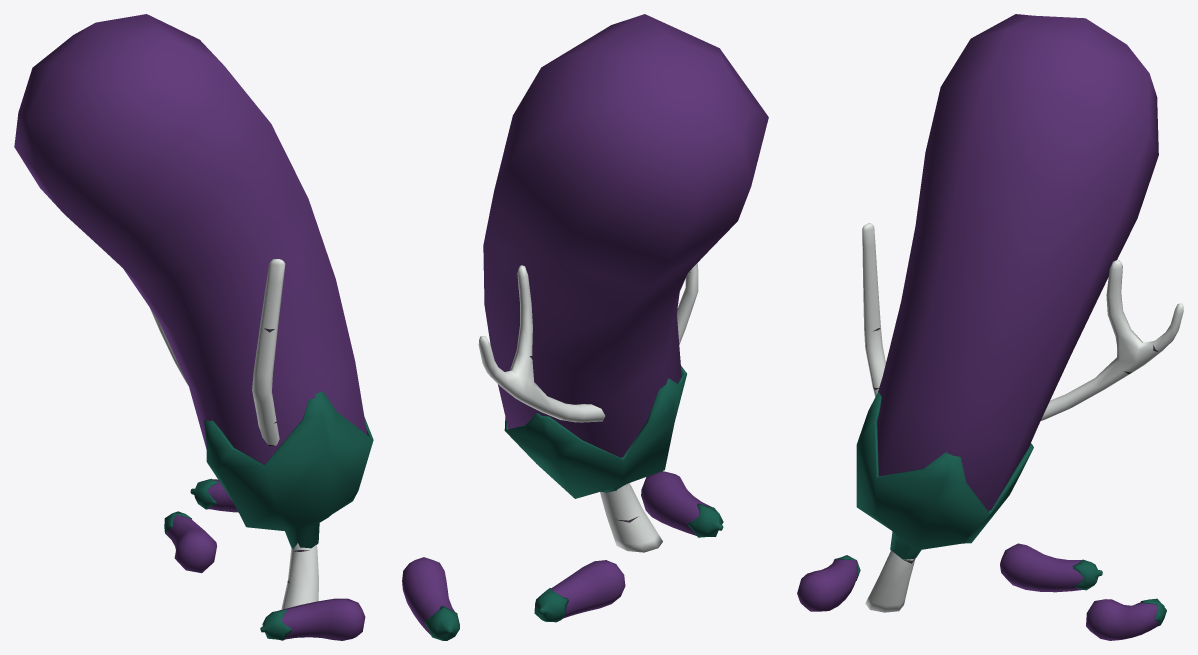
File: Tree-Eggplant-no3.gltf
3 views of the same model, side by side, from view 1: azimuth 30°, elevation 25°; view 2: azimuth 150°, elevation 25°; view 3: azimuth 270°, elevation 25° (orthographic). The views are drawn at different scales.
Visible parts, largest first — view 1: Tree-Eggplant-No1; view 2: Tree-Eggplant-No1; view 3: Tree-Eggplant-No1.
Part boxes in pixels (left/top/right/bottom): Tree-Eggplant-No1: left=14, top=14, right=373, bottom=640; Tree-Eggplant-No1: left=402, top=14, right=768, bottom=640; Tree-Eggplant-No1: left=797, top=14, right=1183, bottom=640.
Size of the model in its own units: 1.85 by 3.38 by 2.18.
Materials: 1 (1 with a texture image).
